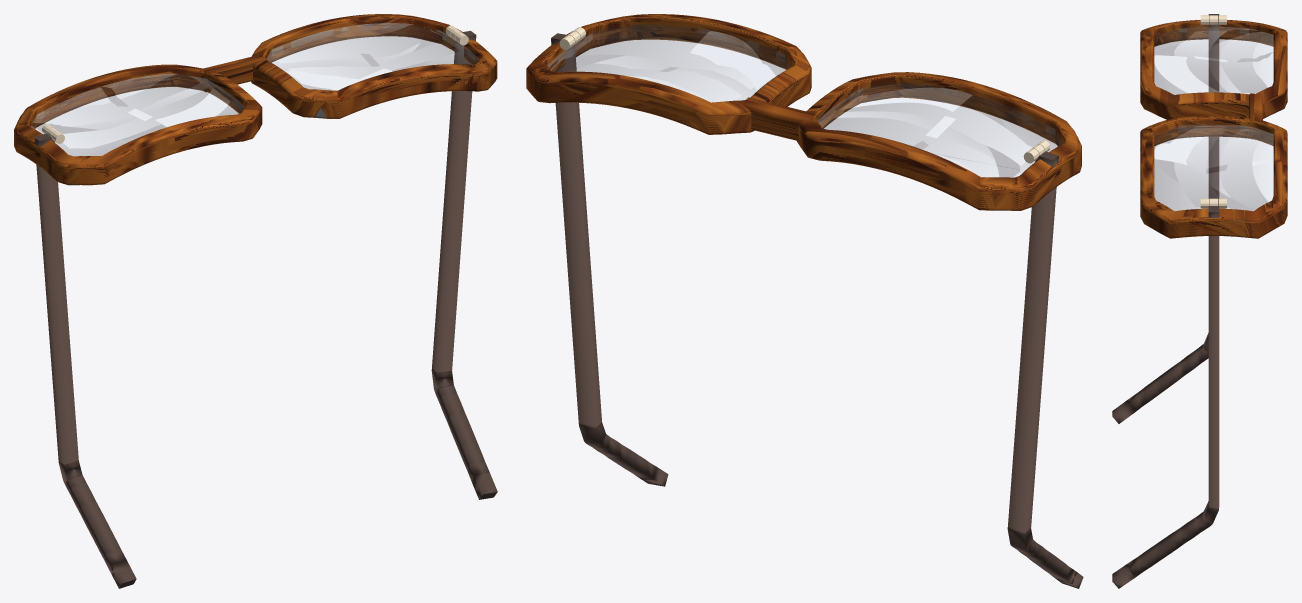
File: rect.glb
The picture shows the model from 3 angles, left to right: view 1: azimuth 30°, elevation 25°; view 2: azimuth 150°, elevation 25°; view 3: azimuth 270°, elevation 25°; orthographic projection. The views are drawn at different scales.
Parts seen in each view (by area): view 1: MEL_eyewear_Frame, MEL_eyewear_LensL, MEL_eyewear_TempleR, MEL_eyewear_TempleL, MEL_eyewear_LensR; view 2: MEL_eyewear_Frame, MEL_eyewear_LensL, MEL_eyewear_LensR, MEL_eyewear_TempleL, MEL_eyewear_TempleR; view 3: MEL_eyewear_Frame, MEL_eyewear_LensR, MEL_eyewear_LensL, MEL_eyewear_TempleL, MEL_eyewear_TempleR.
Part boxes in pixels (box(x1,y1,x2,y2)): MEL_eyewear_Frame: box(14, 14, 497, 185); MEL_eyewear_LensL: box(31, 73, 244, 155); MEL_eyewear_TempleR: box(34, 133, 136, 588); MEL_eyewear_TempleL: box(431, 30, 497, 499); MEL_eyewear_LensR: box(266, 23, 478, 90); MEL_eyewear_Frame: box(526, 14, 1081, 210); MEL_eyewear_LensL: box(817, 82, 1062, 177); MEL_eyewear_LensR: box(547, 24, 791, 102); MEL_eyewear_TempleL: box(551, 33, 668, 486); MEL_eyewear_TempleR: box(1007, 151, 1083, 588); MEL_eyewear_Frame: box(1140, 15, 1287, 238); MEL_eyewear_LensR: box(1154, 124, 1273, 210); MEL_eyewear_LensL: box(1154, 27, 1273, 94); MEL_eyewear_TempleL: box(1112, 204, 1219, 588); MEL_eyewear_TempleR: box(1112, 14, 1219, 423).
Size of the model in its own units: 0.134 by 0.1267 by 0.0499.
5 materials, 3 textured.
